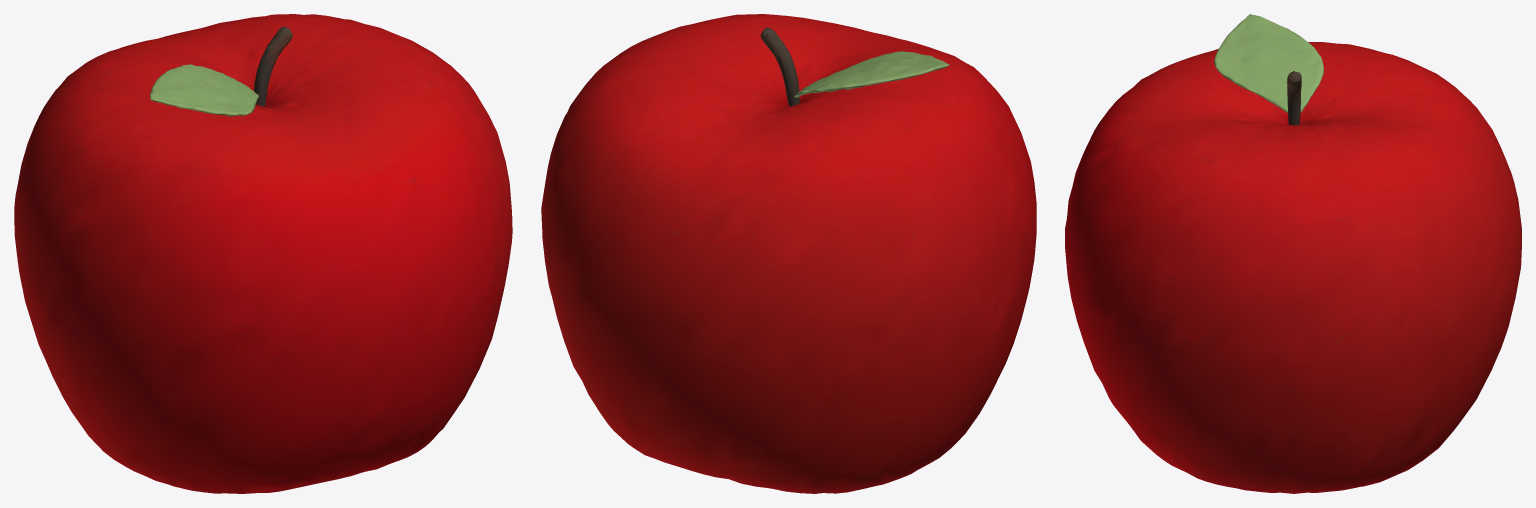
File: citi-apple.glb
3 views of the same model, side by side, from view 1: azimuth 30°, elevation 25°; view 2: azimuth 150°, elevation 25°; view 3: azimuth 270°, elevation 25° (orthographic). The views are drawn at different scales.
Parts seen in each view (by area): view 1: mesh_node; view 2: mesh_node; view 3: mesh_node.
Part boxes in pixels (x1,y1,x2,y2): mesh_node: (14, 14, 512, 493); mesh_node: (541, 14, 1036, 493); mesh_node: (1065, 14, 1521, 493).
Bounding box in the file's own units: 1 × 0.916 × 1.
1 material, 1 textured.
